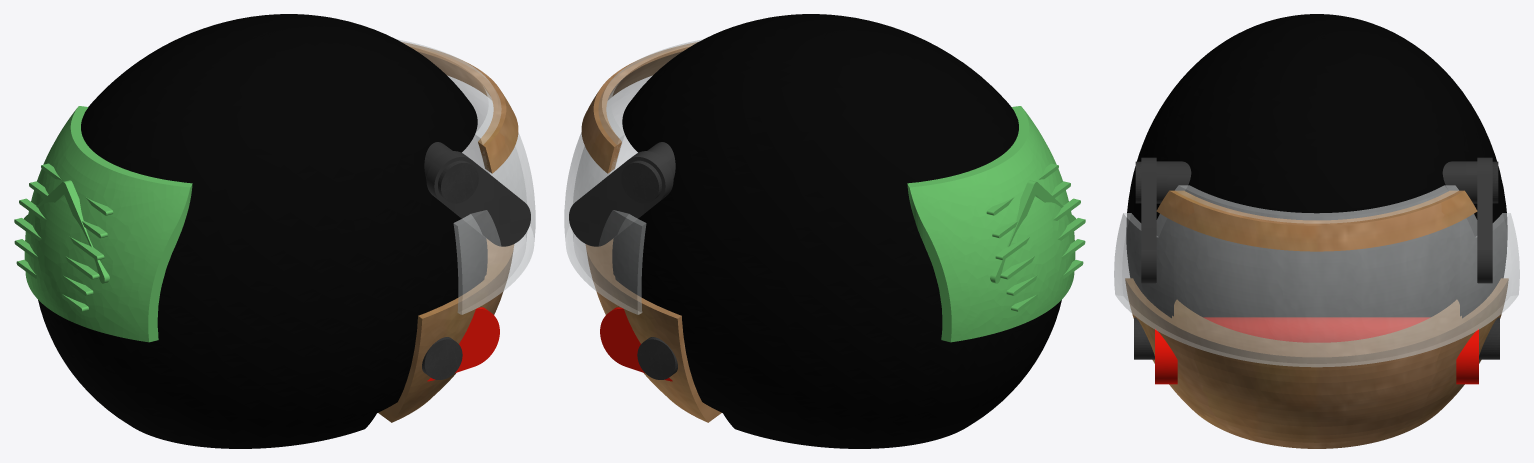
Rendered from Headwear_Racing_helmet__0069.glb.
3 views of the same model, side by side, from view 1: azimuth 30°, elevation 25°; view 2: azimuth 150°, elevation 25°; view 3: azimuth 270°, elevation 25° (orthographic). The views are drawn at different scales.
Parts seen in each view (by area): view 1: shell::shell_dome, shell::rear_occipital_panel, visor::visor_panel, shell::chin_trim, visor::visor_pivot_arms, visor::visor_trim, chin_bar::chin_bar_shell, pivot_stud_right::pivot_stud_right, chin_pivot_right::chin_pivot_right, shell::rear_chevron_ridge_1, shell::rear_vent_slit_2, shell::rear_vent_slit_3; view 2: shell::shell_dome, shell::rear_occipital_panel, visor::visor_panel, shell::chin_trim, visor::visor_pivot_arms, visor::visor_trim, chin_bar::chin_bar_shell, pivot_stud_left::pivot_stud_left, chin_pivot_left::chin_pivot_left, shell::rear_chevron_ridge_0, shell::rear_vent_slit_3, shell::rear_vent_slit_2; view 3: shell::shell_dome, visor::visor_panel, shell::chin_trim, visor::visor_trim, chin_bar::chin_bar_shell, visor::visor_pivot_arms, visor::visor_axle, chin_pivot_left::chin_pivot_left, chin_pivot_right::chin_pivot_right.
Part boxes in pixels (x1=…): shell::shell_dome: x1=38, y1=14, x2=487, y2=448; shell::rear_occipital_panel: x1=24, y1=106, x2=192, y2=342; visor::visor_panel: x1=397, y1=39, x2=535, y2=314; shell::chin_trim: x1=378, y1=239, x2=513, y2=422; visor::visor_pivot_arms: x1=426, y1=151, x2=530, y2=246; visor::visor_trim: x1=402, y1=42, x2=518, y2=173; chin_bar::chin_bar_shell: x1=427, y1=307, x2=499, y2=381; pivot_stud_right::pivot_stud_right: x1=438, y1=160, x2=478, y2=203; chin_pivot_right::chin_pivot_right: x1=422, y1=337, x2=462, y2=379; shell::rear_chevron_ridge_1: x1=61, y1=180, x2=109, y2=283; shell::rear_vent_slit_2: x1=14, y1=218, x2=99, y2=279; shell::rear_vent_slit_3: x1=19, y1=198, x2=104, y2=260; shell::shell_dome: x1=612, y1=14, x2=1061, y2=448; shell::rear_occipital_panel: x1=907, y1=106, x2=1075, y2=342; visor::visor_panel: x1=564, y1=39, x2=702, y2=314; shell::chin_trim: x1=586, y1=239, x2=721, y2=422; visor::visor_pivot_arms: x1=569, y1=151, x2=673, y2=246; visor::visor_trim: x1=581, y1=42, x2=697, y2=173; chin_bar::chin_bar_shell: x1=600, y1=307, x2=672, y2=381; pivot_stud_left::pivot_stud_left: x1=621, y1=160, x2=661, y2=203; chin_pivot_left::chin_pivot_left: x1=637, y1=337, x2=677, y2=379; shell::rear_chevron_ridge_0: x1=990, y1=180, x2=1038, y2=283; shell::rear_vent_slit_3: x1=995, y1=198, x2=1080, y2=260; shell::rear_vent_slit_2: x1=1000, y1=218, x2=1085, y2=279; shell::shell_dome: x1=1126, y1=14, x2=1507, y2=317; visor::visor_panel: x1=1114, y1=185, x2=1519, y2=367; shell::chin_trim: x1=1125, y1=278, x2=1508, y2=448; visor::visor_trim: x1=1156, y1=190, x2=1477, y2=251; chin_bar::chin_bar_shell: x1=1155, y1=317, x2=1478, y2=384; visor::visor_pivot_arms: x1=1141, y1=157, x2=1492, y2=283; visor::visor_axle: x1=1156, y1=161, x2=1477, y2=203; chin_pivot_left::chin_pivot_left: x1=1479, y1=317, x2=1499, y2=359; chin_pivot_right::chin_pivot_right: x1=1134, y1=317, x2=1154, y2=359.
Size of the model in its own units: 0.268 by 0.1976 by 0.2127.
Materials: 6 (3 with a texture image).
